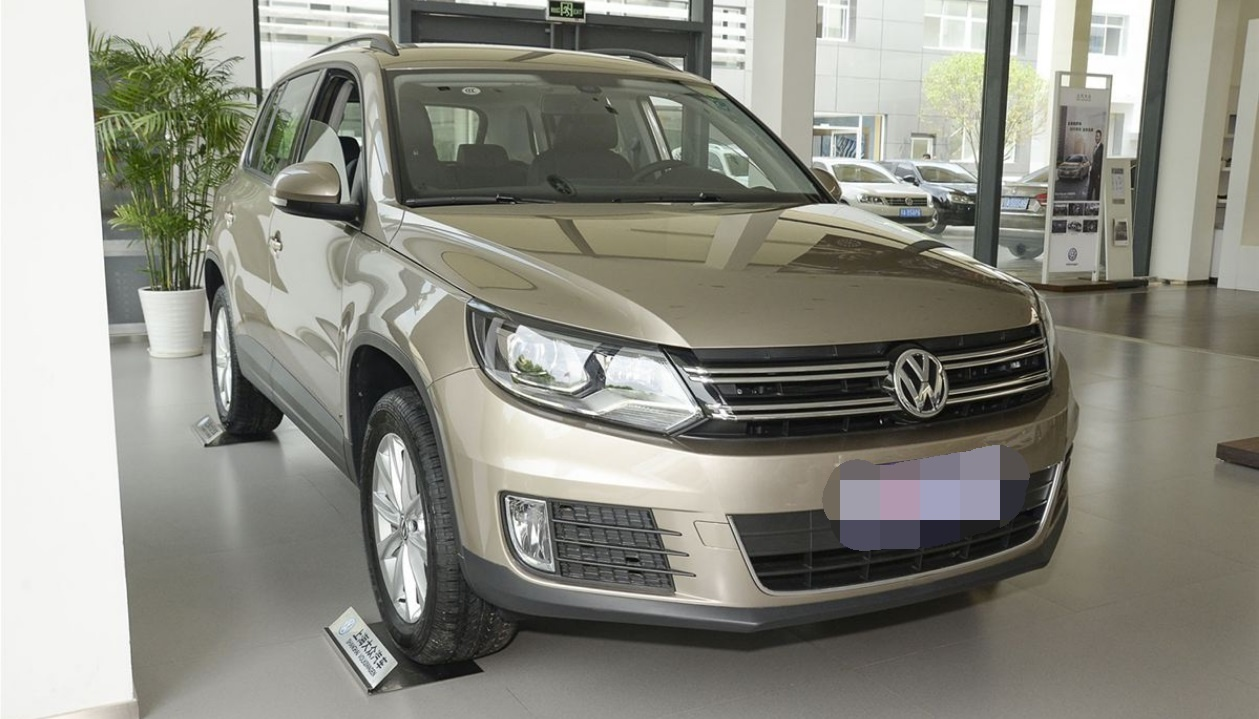SUV: (192, 40, 1083, 657)
